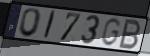3: (80, 14, 102, 46)
7: (60, 12, 82, 43)
B: (117, 18, 142, 51)
G: (100, 17, 123, 47)
I: (42, 10, 57, 41)
O: (17, 8, 43, 39)
